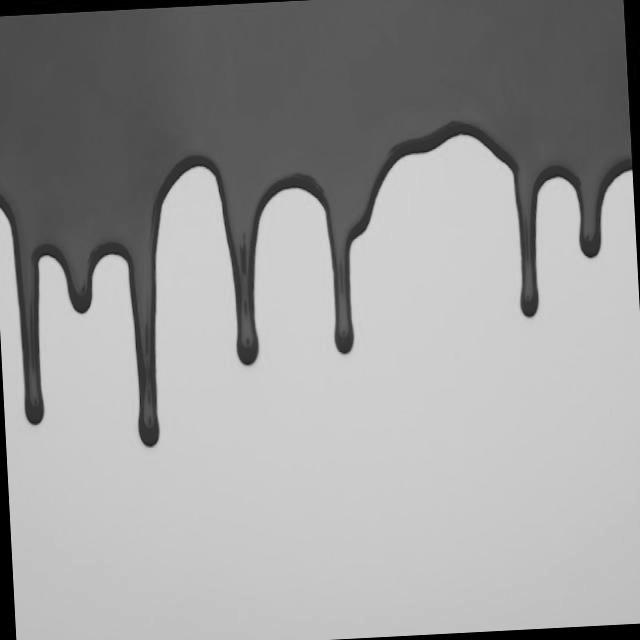paint drips: (0, 29, 195, 463), (108, 11, 276, 451), (209, 48, 386, 386), (308, 72, 494, 372), (475, 88, 640, 337), (500, 55, 505, 60)
